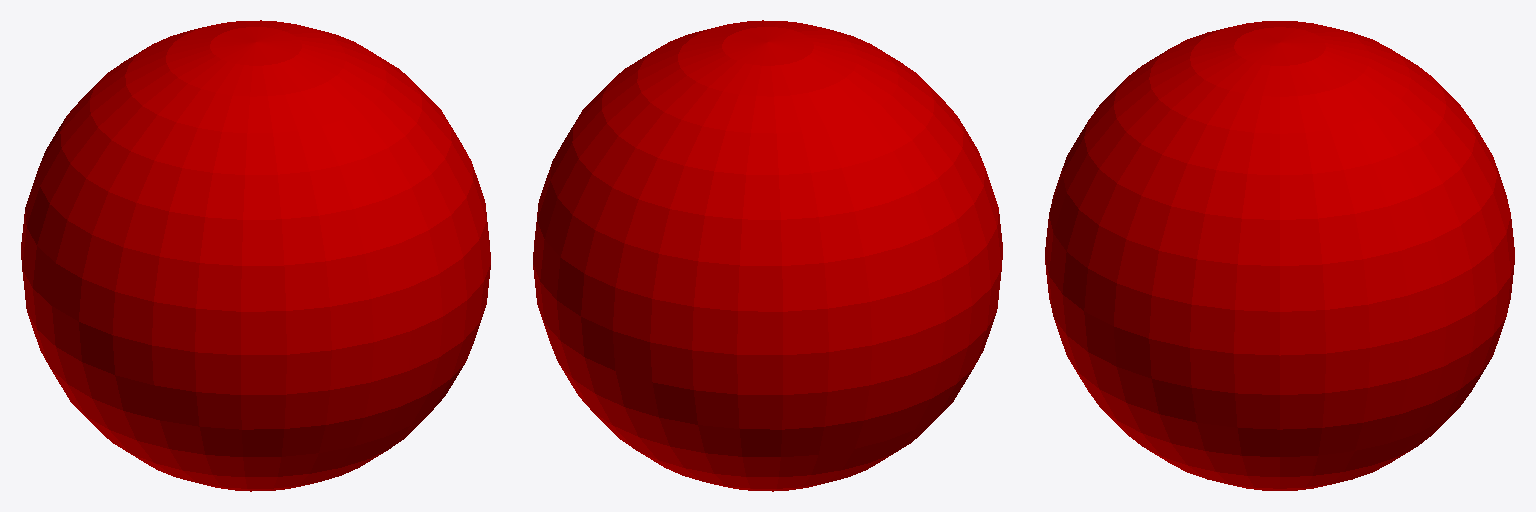
robot.urdf — urdf_robot:
<?xml version="1.0" ?>
<robot name="urdf_robot">
  <link concave="yes" name="base_link">
    <inertial>
      <origin rpy="0 0 0" xyz="0 0 0"/>
       <mass value="0.0"/>
       <inertia ixx="1" ixy="0" ixz="0" iyy="1" iyz="0" izz="1"/>
    </inertial>
    <visual>
      <origin rpy="0 0 0" xyz="0 0 0"/>
      <geometry>
	    <sphere radius="0.03"/>
      </geometry>
      <material name="red">
        <color rgba="0.8 0 0 1"/>
      </material>
    </visual>
    <collision concave="yes">
      <origin rpy="0 0 0" xyz="0 0 0"/>
      <geometry>
	    <sphere radius="0.03"/>
      </geometry>
    </collision>
  </link>
</robot>

--- Render facts (derived) ---
The picture shows the robot from 3 angles, left to right: view 1: azimuth 30°, elevation 25°; view 2: azimuth 150°, elevation 25°; view 3: azimuth 270°, elevation 25°; orthographic projection.
Model urdf_robot with 1 links and 0 joints (none), rooted at base_link, posed every joint at zero.
Links seen in each view (by area): view 1: base_link; view 2: base_link; view 3: base_link.
Boxes of the visible links, x1,y1,x2,y2 form: base_link: (21,20,490,491); base_link: (533,20,1002,491); base_link: (1045,21,1514,490).
Bounding box of the posed robot: 0.06 × 0.06 × 0.06 m (x, y, z).
Geometry: primitives only (box / cylinder / sphere), no mesh files.